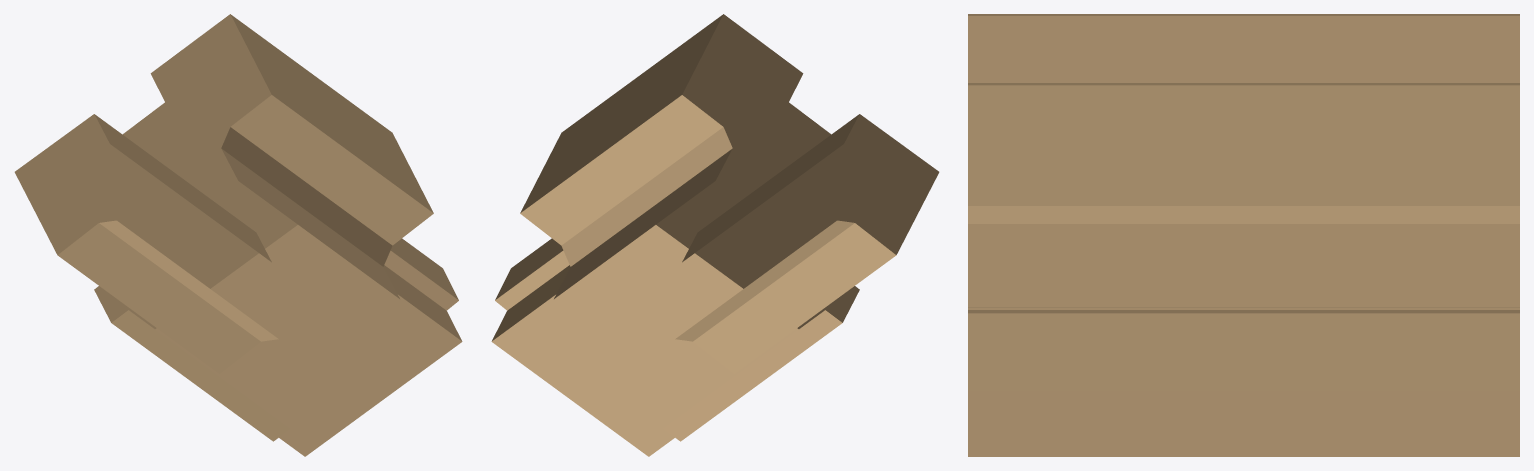
The picture shows the model from 3 angles, left to right: view 1: azimuth 30°, elevation 25°; view 2: azimuth 150°, elevation 25°; view 3: azimuth 270°, elevation 25°; orthographic projection. The views are drawn at different scales.
Parts seen in each view (by area): view 1: 0_1_0_2_2_1_1_2_3; view 2: 0_1_0_2_2_1_1_2_3; view 3: 0_1_0_2_2_1_1_2_3.
Part boxes in pixels (<box>): 0_1_0_2_2_1_1_2_3: <box>14,14,462,456</box>; 0_1_0_2_2_1_1_2_3: <box>491,14,939,456</box>; 0_1_0_2_2_1_1_2_3: <box>968,14,1519,456</box>.
Size of the model in its own units: 24.43 by 24.74 by 24.
